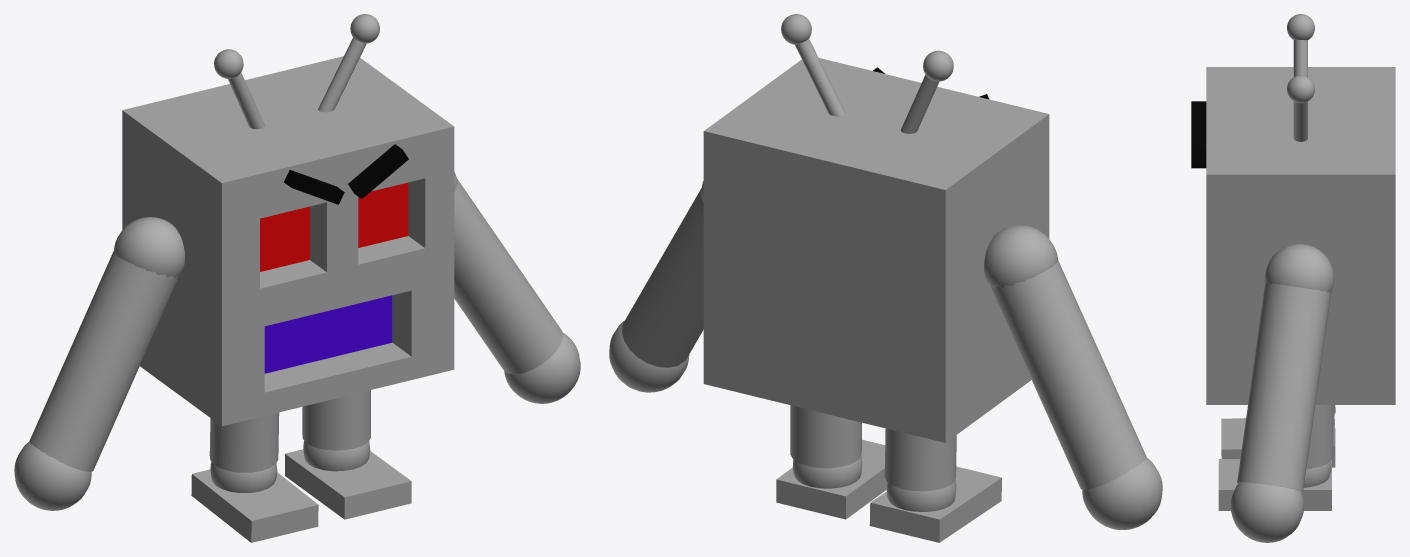
Rendered from SuicideRobot.fbx.
3 renders of one model, left to right at view 1: azimuth 30°, elevation 25°; view 2: azimuth 150°, elevation 25°; view 3: azimuth 270°, elevation 25°, orthographic. The views are drawn at different scales.
Visible parts, largest first — view 1: pCube9, pSphere10, pSphere11, pCylinder7, pCylinder8, pSphere9, pCube10, pCube11, pCylinder5, pSphere7; view 2: pCube9, pSphere10, pSphere11, pCylinder7, pCylinder8, pSphere9, pCylinder5, pSphere7; view 3: pCube9, pSphere11, pCylinder8, pSphere9, pCylinder7, pCube11, pSphere7, pCylinder5, pCube10.
Part boxes in pixels (x1,y1,x2,y2): pCube9: (122,56,454,426); pSphere10: (14,217,184,510); pSphere11: (454,172,580,403); pCylinder7: (191,412,318,542); pCylinder8: (285,390,411,519); pSphere9: (318,14,379,112); pCube10: (348,144,408,198); pCube11: (284,170,344,204); pCylinder5: (228,72,264,129); pSphere7: (214,49,243,78); pCube9: (703,58,1049,442); pSphere10: (984,225,1162,529); pSphere11: (609,181,703,392); pCylinder7: (869,428,1001,542); pCylinder8: (776,405,887,519); pSphere9: (781,14,845,116); pCylinder5: (901,74,938,133); pSphere7: (923,50,953,81); pCube9: (1206,67,1395,404); pSphere11: (1230,244,1334,542); pCylinder8: (1218,405,1333,510); pSphere9: (1287,75,1314,141); pCylinder7: (1221,405,1335,467); pCube11: (1191,101,1206,149); pSphere7: (1287,14,1314,40); pCylinder5: (1293,40,1307,76); pCube10: (1191,150,1206,168).
Size of the model in its own units: 8.06 by 6.56 by 2.79.
